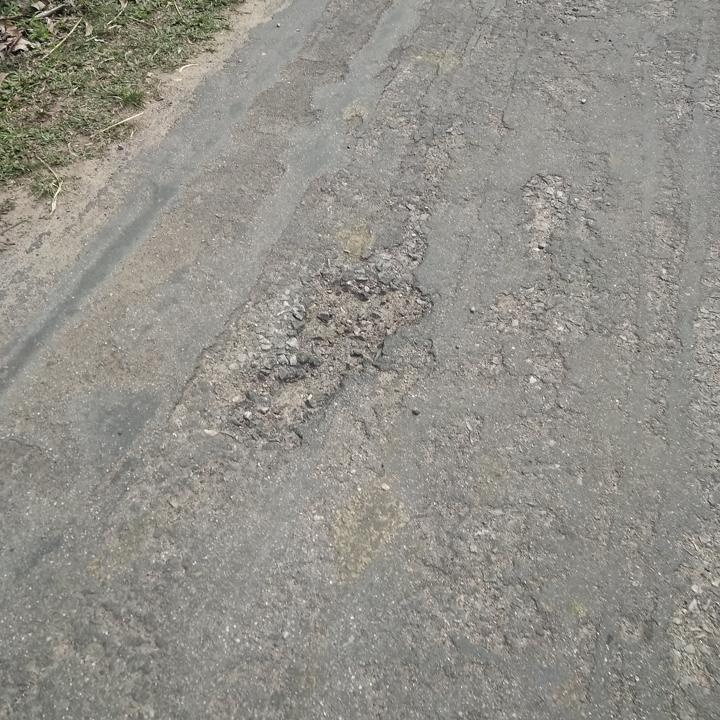pothole: (235, 271, 437, 443), (517, 169, 574, 250)
